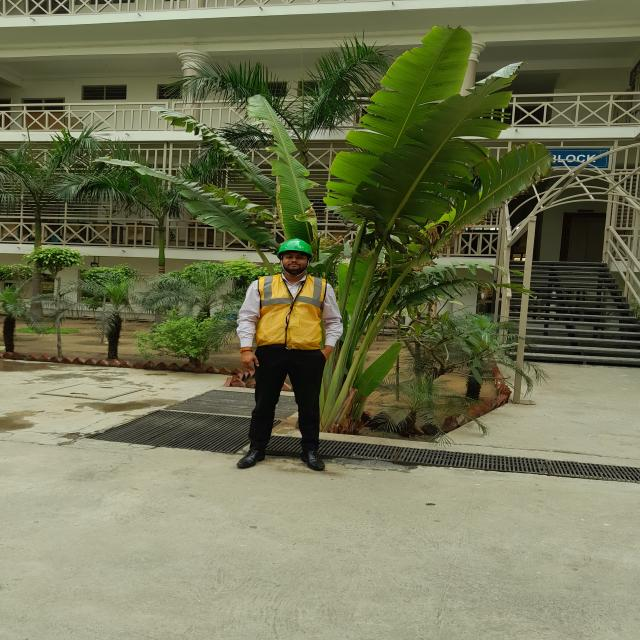safe: (233, 239, 344, 470)
